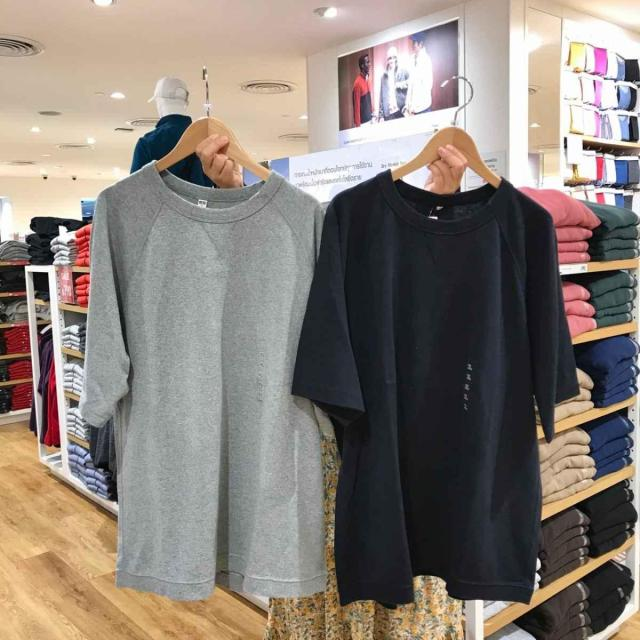Tshirt: (75, 183, 335, 591), (307, 176, 554, 603)
